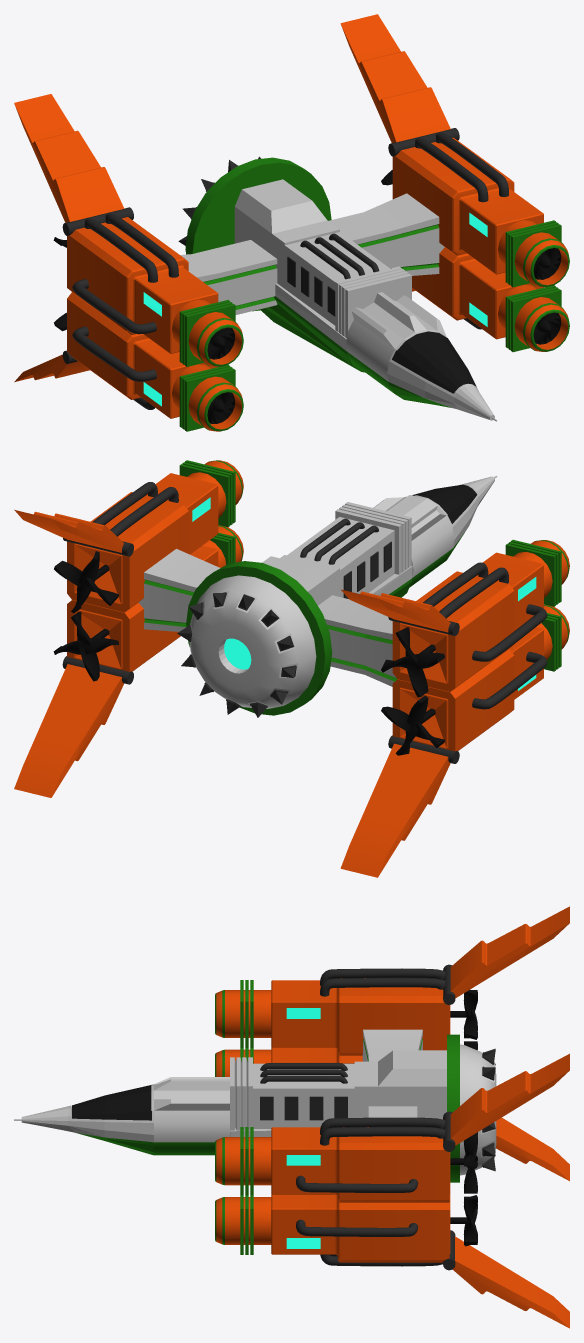
File: Boss02.FBX
3 renders of one model, top to bottom at view 1: azimuth 30°, elevation 25°; view 2: azimuth 150°, elevation 25°; view 3: azimuth 270°, elevation 25°, orthographic. The views are drawn at different scales.
Visible parts, largest first — view 1: Cylinder002 (×2), Box008, Box010, ChamferBox001, ChamferBox003, Box020, Box014, ChamferBox002, ChamferBox004, Object005, Box009, Cylinder006 (+20 smaller); view 2: Sphere002, ChamferBox001, ChamferBox003, Cylinder002 (×2), Box010, ChamferBox002, Box017, Box023, Box008, ChamferBox004, Box014, Box020 (+21 smaller); view 3: Box008, ChamferBox003, ChamferBox001, Cylinder002 (×2), ChamferBox004, Box014, Box020, Box023, Cylinder009, Cylinder003, Cylinder012, Box010 (+22 smaller).
Part boxes in pixels (left/top/right/bottom): Cylinder002 (×2): left=185, top=157, right=497, bottom=421; Box008: left=234, top=179, right=411, bottom=338; Box010: left=180, top=193, right=444, bottom=314; ChamferBox001: left=67, top=217, right=218, bottom=353; ChamferBox003: left=392, top=137, right=543, bottom=274; Box020: left=340, top=14, right=450, bottom=142; Box014: left=14, top=94, right=124, bottom=222; ChamferBox002: left=67, top=292, right=217, bottom=418; ChamferBox004: left=412, top=247, right=543, bottom=339; Object005: left=392, top=331, right=476, bottom=393; Box009: left=260, top=283, right=364, bottom=372; Cylinder006: left=172, top=364, right=243, bottom=431; Sphere002: left=189, top=575, right=316, bottom=708; ChamferBox001: left=392, top=552, right=543, bottom=691; ChamferBox003: left=67, top=473, right=218, bottom=612; Cylinder002 (×2): left=186, top=475, right=497, bottom=715; Box010: left=138, top=549, right=397, bottom=686; ChamferBox002: left=392, top=627, right=543, bottom=751; Box017: left=340, top=743, right=450, bottom=877; Box023: left=14, top=664, right=124, bottom=797; Box008: left=262, top=502, right=411, bottom=605; ChamferBox004: left=67, top=545, right=218, bottom=671; Box014: left=341, top=589, right=450, bottom=632; Box020: left=14, top=509, right=124, bottom=552; Box008: left=230, top=1050, right=446, bottom=1130; ChamferBox003: left=271, top=1119, right=450, bottom=1202; ChamferBox001: left=271, top=978, right=450, bottom=1055; Cylinder002 (×2): left=14, top=1034, right=459, bottom=1182; ChamferBox004: left=271, top=1194, right=450, bottom=1262; Box014: left=450, top=906, right=569, bottom=998; Box020: left=450, top=1053, right=569, bottom=1145; Box023: left=452, top=1236, right=569, bottom=1328; Cylinder009: left=215, top=1137, right=271, bottom=1185; Cylinder003: left=215, top=990, right=271, bottom=1037; Cylinder012: left=215, top=1197, right=271, bottom=1244; Box010: left=362, top=1029, right=422, bottom=1117.
Bounding box in the file's own units: 309 × 196 × 382.
